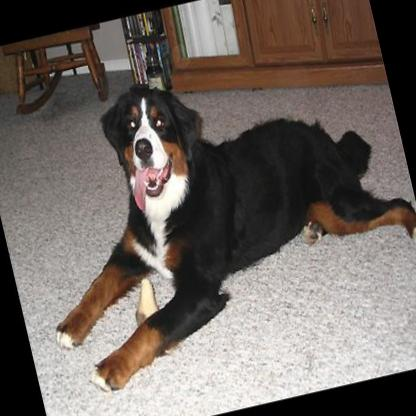Bernese_mountain_dog: (3, 31, 416, 402)
